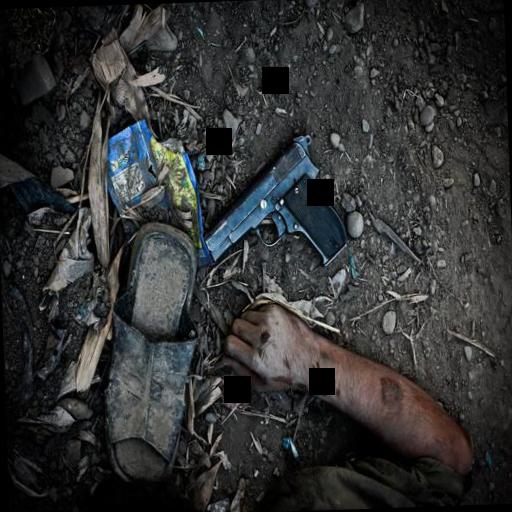Handgun: (196, 128, 350, 274)
